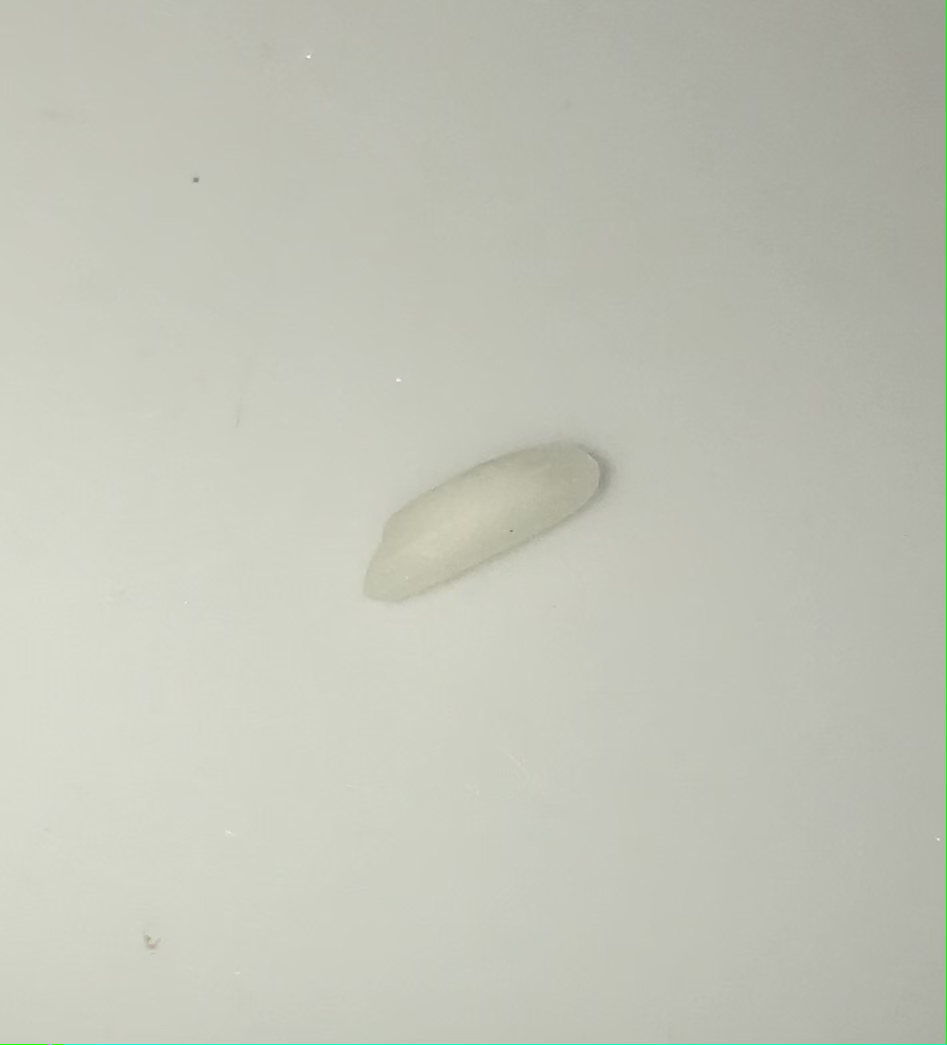Gao Thom Go Cong: (356, 432, 633, 625)
